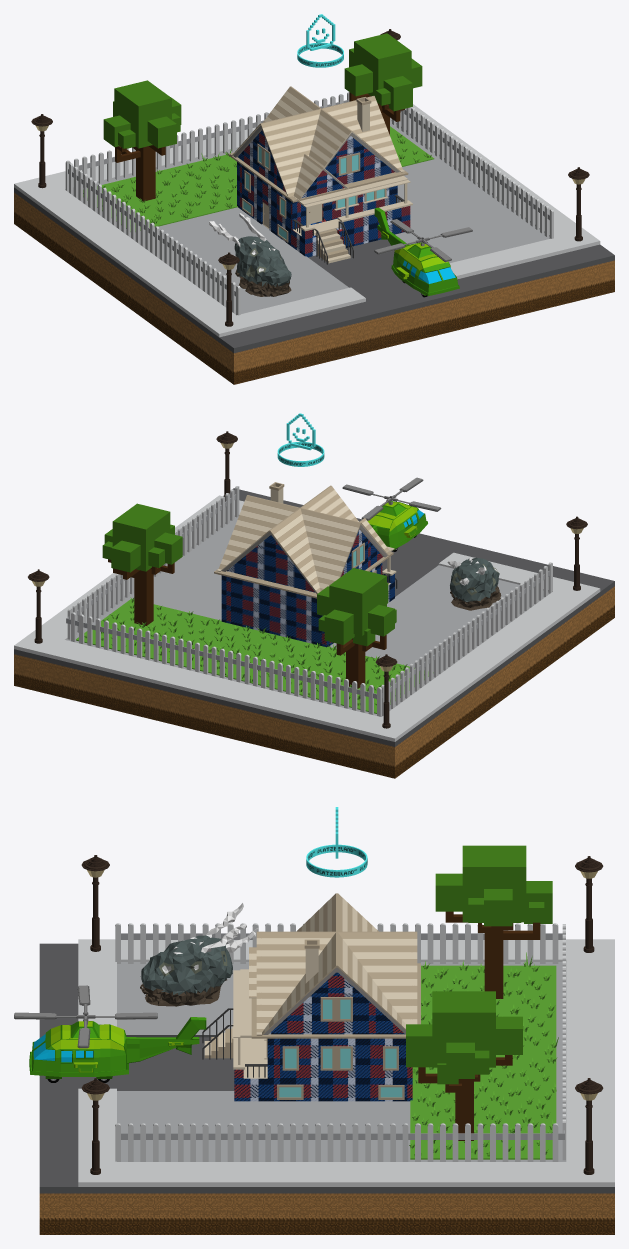
The picture shows the model from 3 angles, top to bottom: view 1: azimuth 30°, elevation 25°; view 2: azimuth 150°, elevation 25°; view 3: azimuth 270°, elevation 25°; orthographic projection. The views are drawn at different scales.
Visible parts, largest first — view 1: Cube.004, Cube.171, VEHICLES_HELICOPTER, OBJRANDOM_METEORITE, TYPE_PREMIUM; view 2: Cube.004, Cube.171, VEHICLES_HELICOPTER, OBJRANDOM_METEORITE, TYPE_PREMIUM; view 3: Cube.004, Cube.171, VEHICLES_HELICOPTER, OBJRANDOM_METEORITE, TYPE_PREMIUM.
Part boxes in pixels (bbox=[...]): Cube.004: bbox=[14, 29, 614, 384]; Cube.171: bbox=[228, 86, 412, 264]; VEHICLES_HELICOPTER: bbox=[374, 207, 472, 297]; OBJRANDOM_METEORITE: bbox=[209, 213, 291, 296]; TYPE_PREMIUM: bbox=[297, 14, 343, 67]; Cube.004: bbox=[14, 431, 614, 778]; Cube.171: bbox=[214, 482, 397, 647]; VEHICLES_HELICOPTER: bbox=[342, 477, 441, 551]; OBJRANDOM_METEORITE: bbox=[447, 557, 501, 610]; TYPE_PREMIUM: bbox=[277, 413, 324, 466]; Cube.004: bbox=[39, 845, 614, 1234]; Cube.171: bbox=[202, 893, 420, 1101]; VEHICLES_HELICOPTER: bbox=[14, 985, 206, 1082]; OBJRANDOM_METEORITE: bbox=[140, 903, 258, 1006]; TYPE_PREMIUM: bbox=[306, 807, 367, 877].
Bounding box in the file's own units: 4000 × 2619 × 4179.
31 materials, 5 textured.
